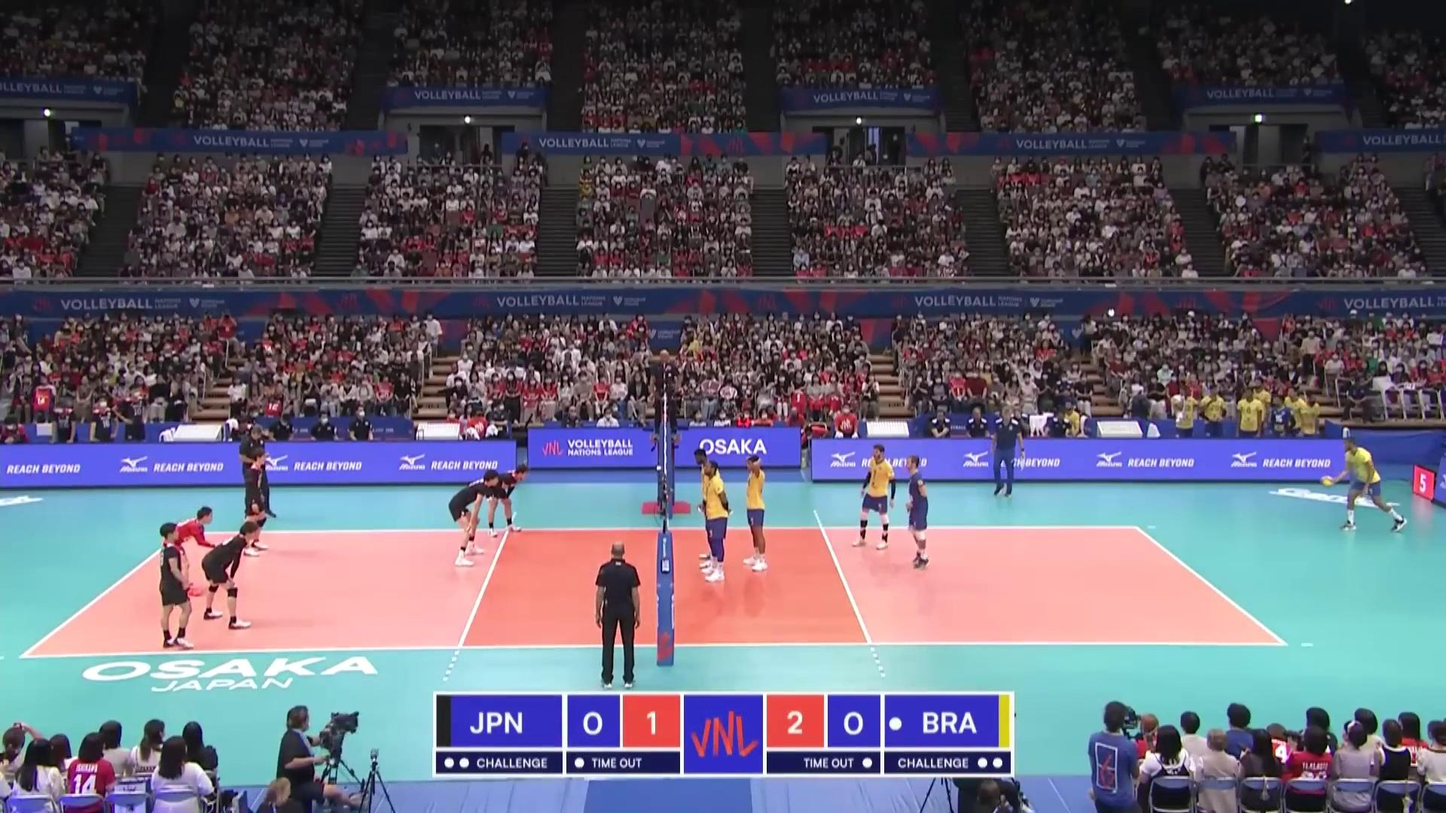player: (1325, 438, 1407, 533), (154, 522, 198, 649), (202, 523, 255, 627), (448, 470, 497, 567), (164, 506, 214, 596), (857, 445, 894, 550), (483, 462, 531, 536), (702, 460, 730, 585), (901, 453, 931, 566), (694, 447, 721, 568), (239, 451, 269, 556), (743, 455, 770, 570)
refree: (596, 542, 645, 685), (653, 351, 679, 438)
